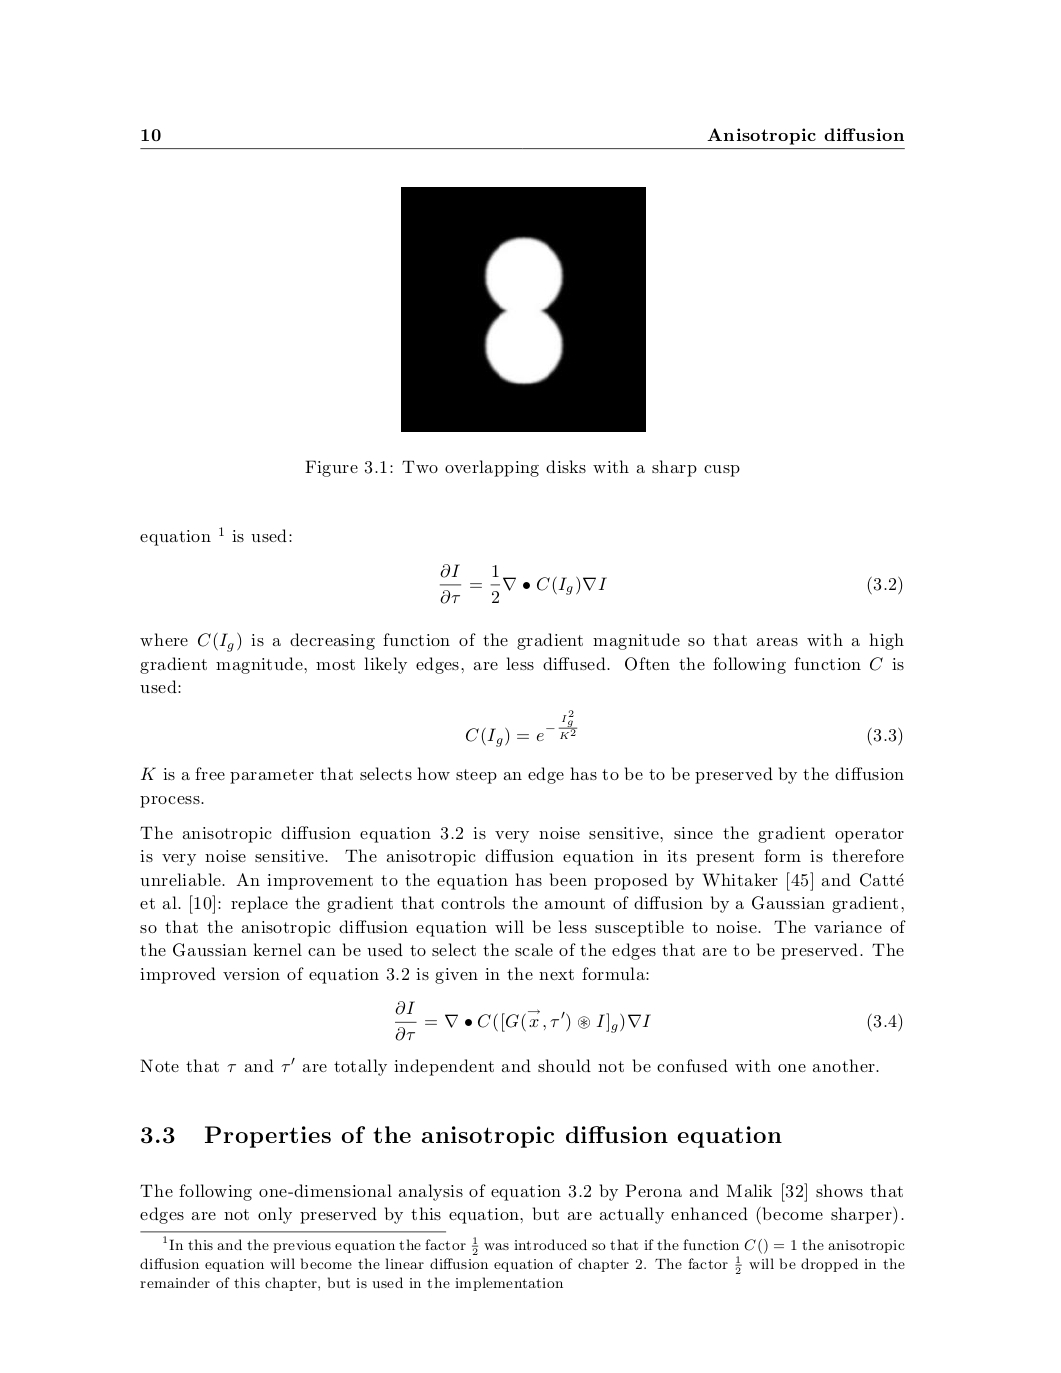figure: (401, 185, 645, 432)
formula: (395, 1000, 902, 1041), (439, 562, 902, 604), (465, 709, 902, 747)
